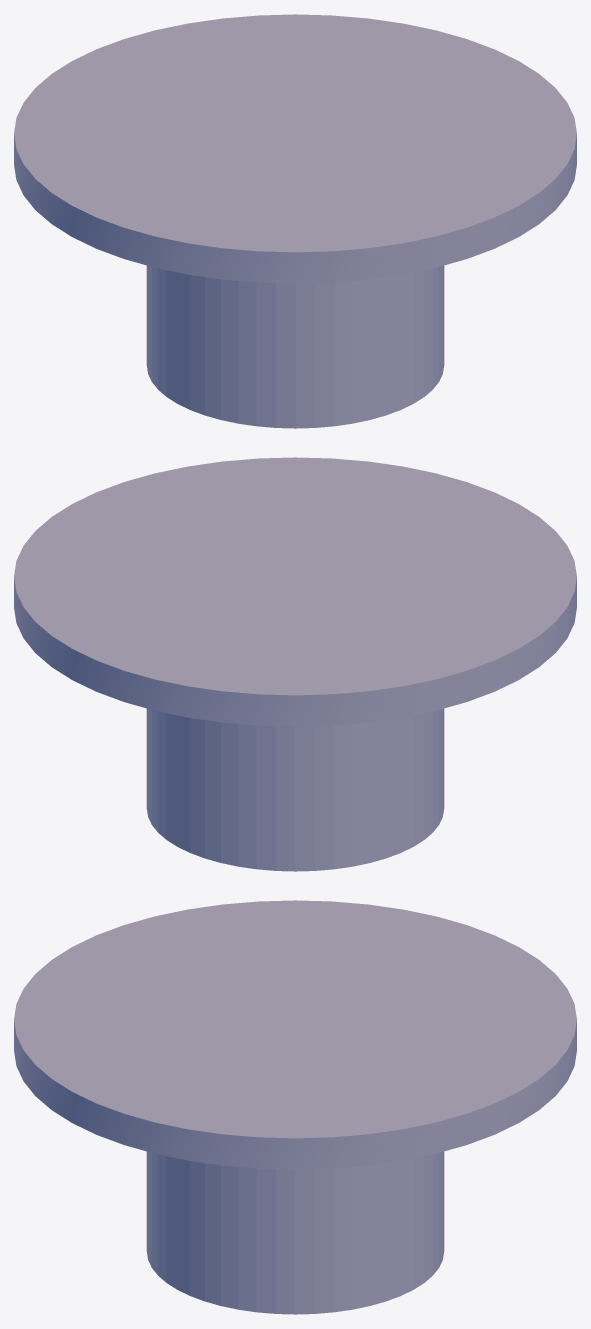
File: mesa-auxiliar-v1.glb
3 renders of one model, top to bottom at view 1: azimuth 30°, elevation 25°; view 2: azimuth 150°, elevation 25°; view 3: azimuth 270°, elevation 25°, orthographic.
Visible parts, largest first — view 1: obj3; view 2: obj3; view 3: obj3.
Part boxes in pixels (<box>): obj3: <box>14,14,576,428</box>; obj3: <box>14,457,576,871</box>; obj3: <box>14,900,576,1314</box>.
Bounding box in the file's own units: 1.06 × 0.4825 × 1.06.
